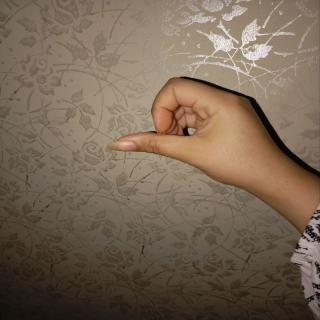WAW: (106, 50, 296, 216)
